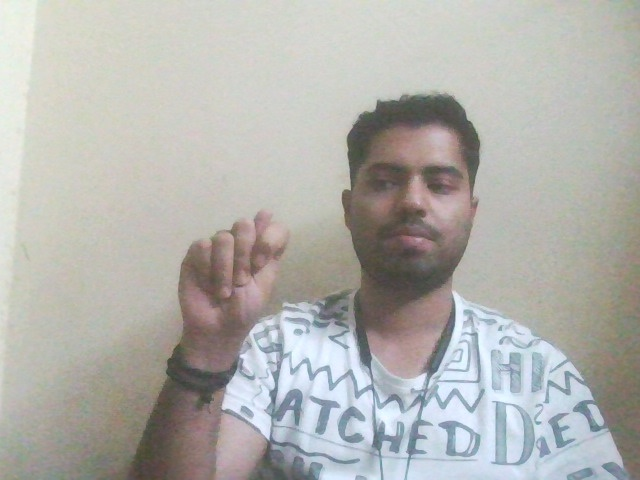X: (163, 196, 312, 351)
